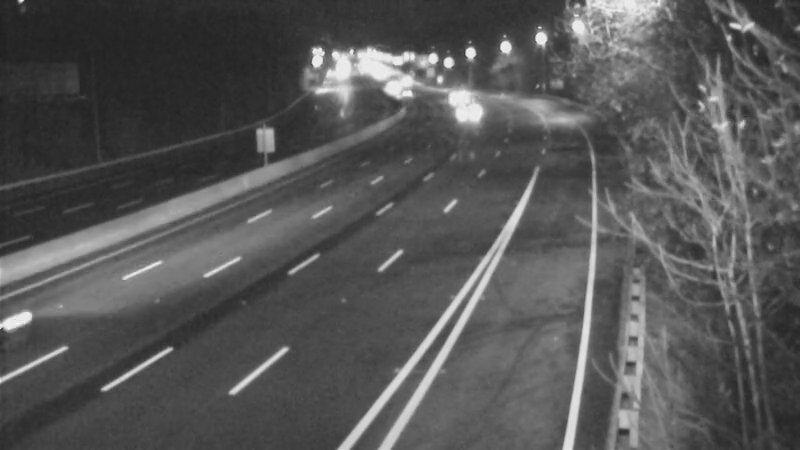vehicle: (367, 62, 417, 112), (386, 70, 436, 120), (427, 71, 477, 121), (439, 88, 489, 138)
